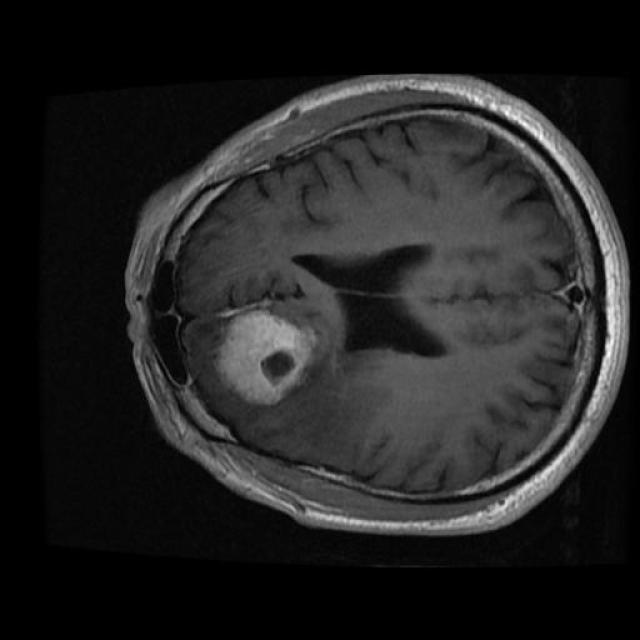Meningioma: (214, 310, 316, 404)
